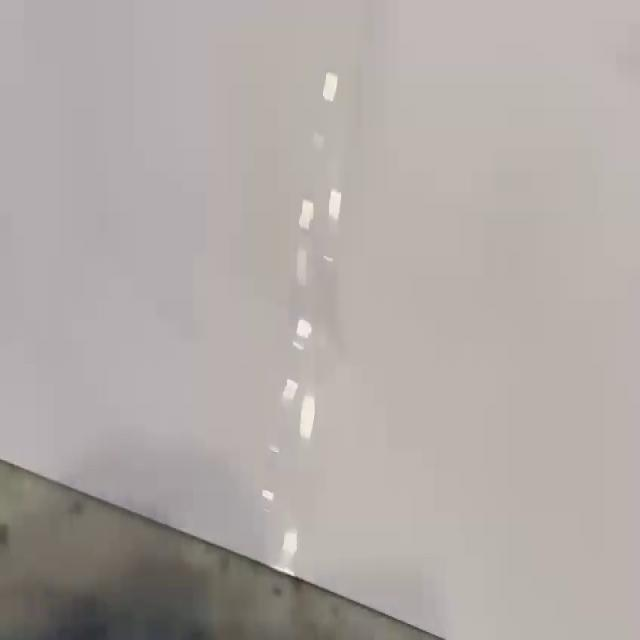road: (0, 0, 640, 640)
